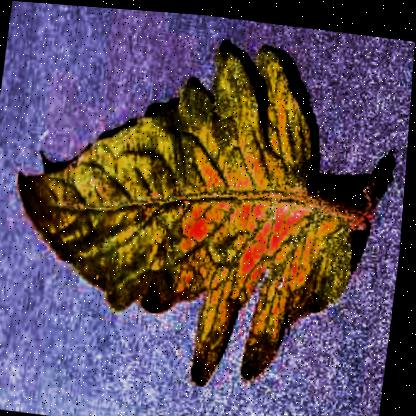Virus: (0, 12, 413, 402)
